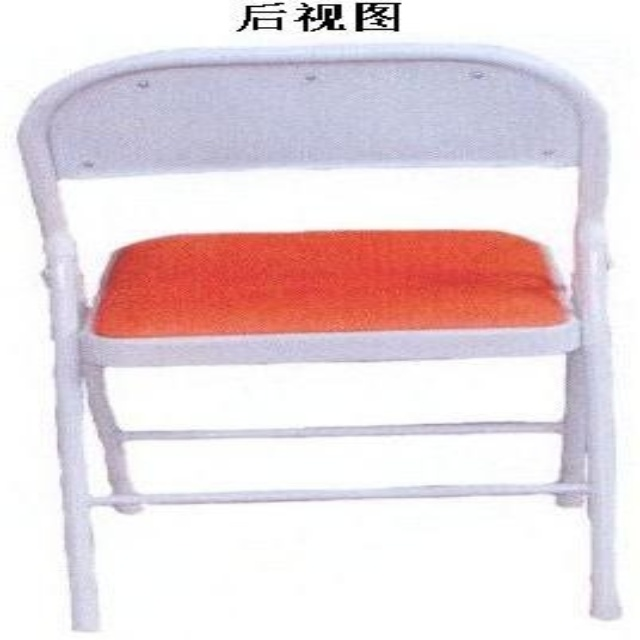obstacle: (19, 46, 619, 630)
